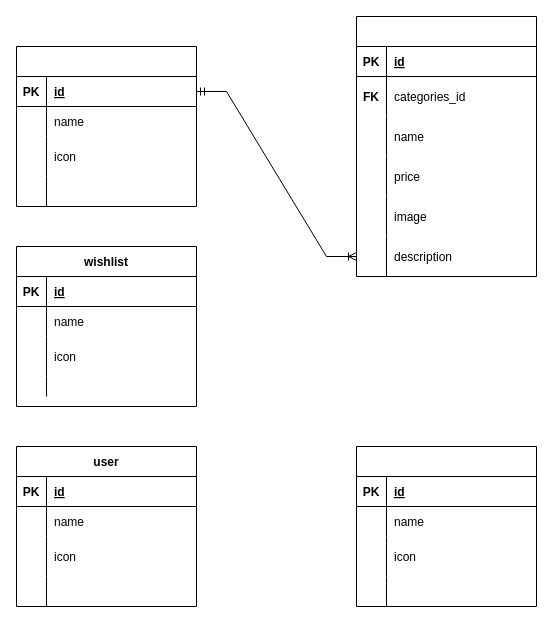
This 553x623 diagram has some shape labels left out. Here are the shapes that lost their labels. From the top down, the box of each, then its label:
(16, 46, 196, 206): categories
(356, 16, 536, 276): products
